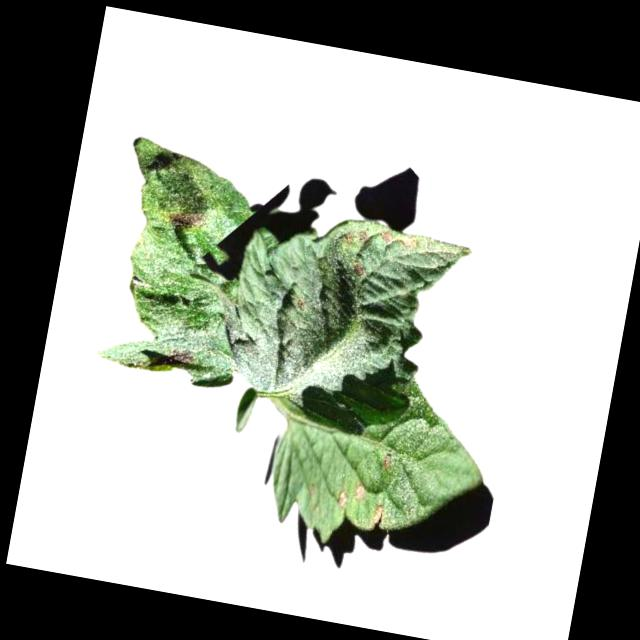Early_blight: (164, 203, 208, 230), (169, 343, 201, 367), (368, 501, 387, 532), (380, 451, 396, 473), (333, 489, 349, 508), (351, 261, 368, 278), (351, 482, 365, 502), (342, 227, 357, 245), (356, 227, 370, 244), (380, 229, 394, 245)
